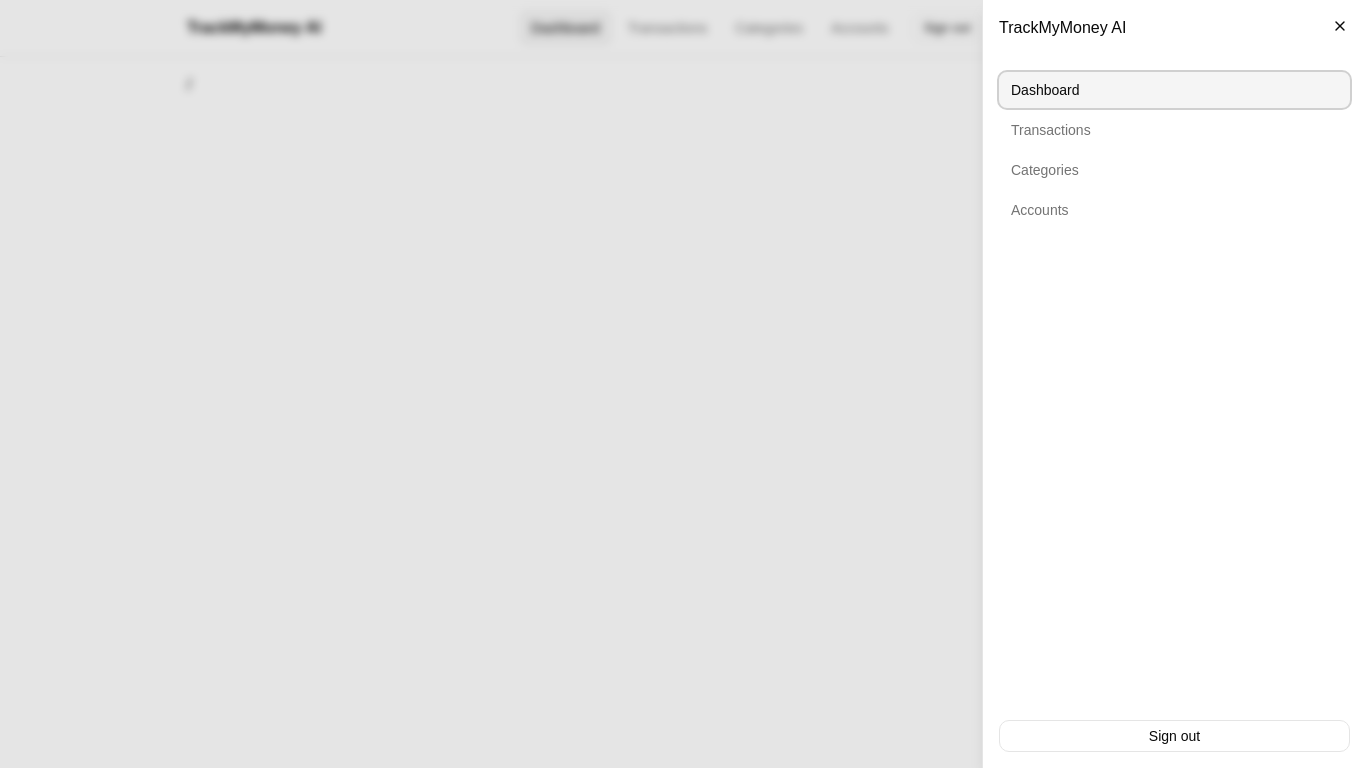
it: RootLayout › navigates to Categories, updates the route, and closes the dialog
Earlier steps of the test are not shown.
Click the link "Categories" at (1045, 170), box [1011,162,1079,178]
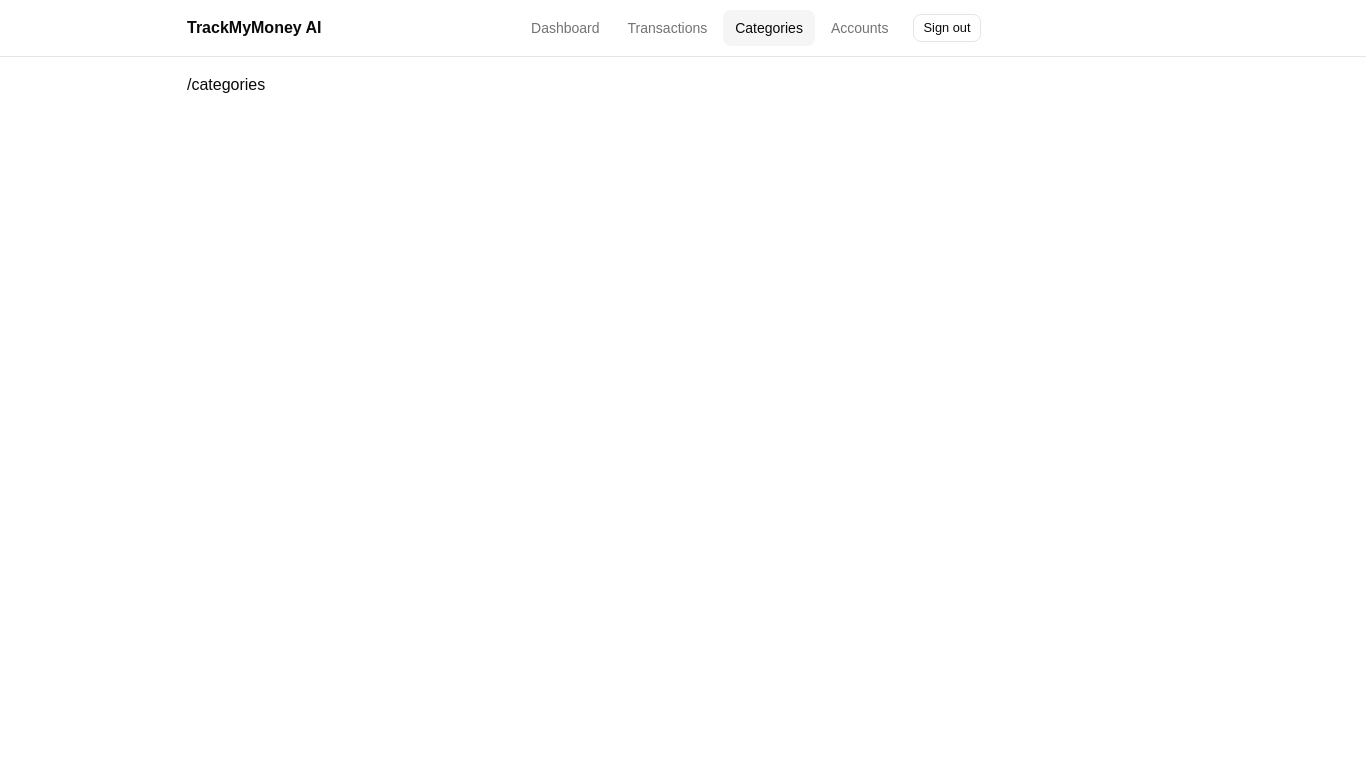
Check: the text with test id "location" reads "/categories", box [187,76,265,93]
Check: the dialog is gone
